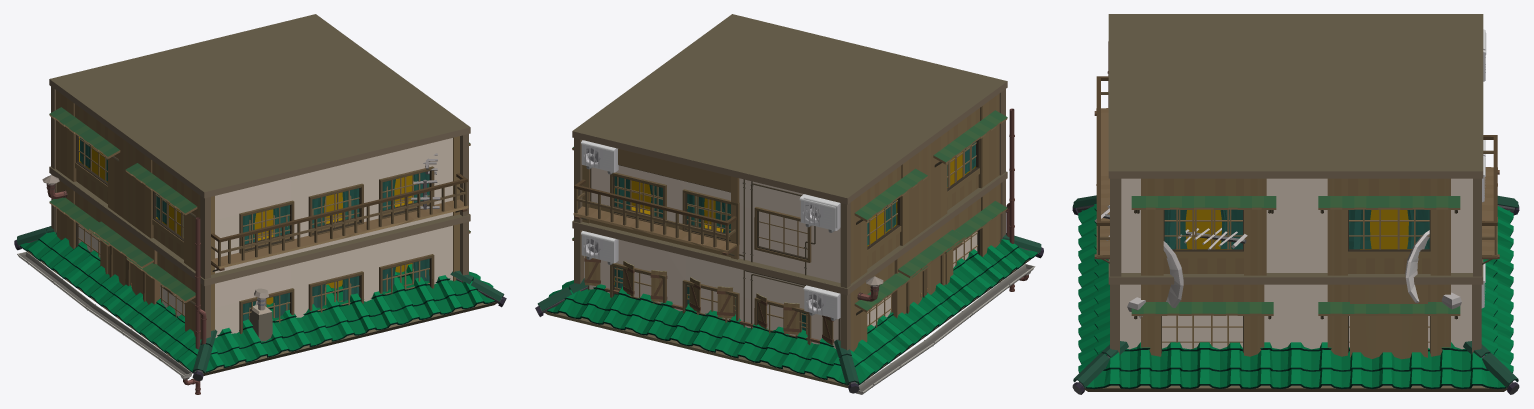
3 views of the same model, side by side, from view 1: azimuth 30°, elevation 25°; view 2: azimuth 150°, elevation 25°; view 3: azimuth 270°, elevation 25° (orthographic). The views are drawn at different scales.
Visible parts, largest first — view 1: midV1.009, roof.018, baseDoor.003, antenna.001; view 2: midV1.009, baseDoor.003, roof.018; view 3: midV1.009, baseDoor.003, roof.018, antenna.001.
Boxes of the visible parts, left/top/right/bottom form: midV1.009: left=49, top=14, right=470, bottom=394; roof.018: left=14, top=226, right=506, bottom=390; baseDoor.003: left=42, top=86, right=470, bottom=344; antenna.001: left=411, top=153, right=440, bottom=209; midV1.009: left=572, top=14, right=1014, bottom=355; baseDoor.003: left=572, top=92, right=1014, bottom=345; roof.018: left=535, top=233, right=1043, bottom=394; midV1.009: left=1107, top=14, right=1485, bottom=356; baseDoor.003: left=1094, top=32, right=1499, bottom=359; roof.018: left=1072, top=195, right=1519, bottom=394; antenna.001: left=1094, top=205, right=1461, bottom=318.
Bounding box in the file's own units: 0.9387 × 0.5726 × 0.9555.
